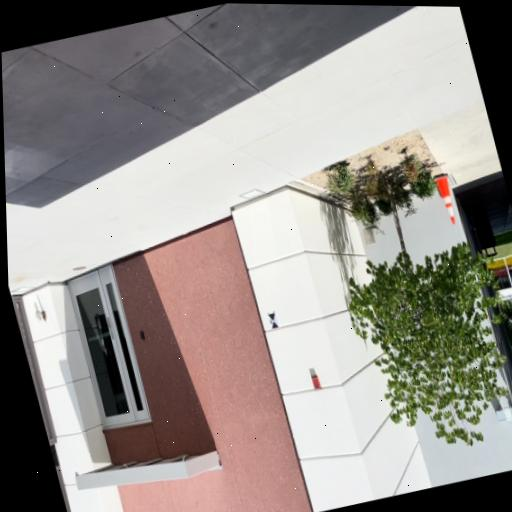target9: (267, 312, 280, 330)
